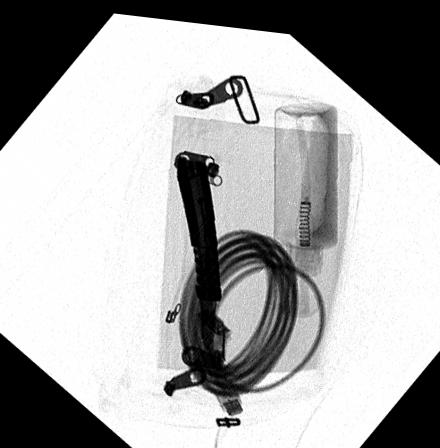Knife: (173, 150, 222, 344)
